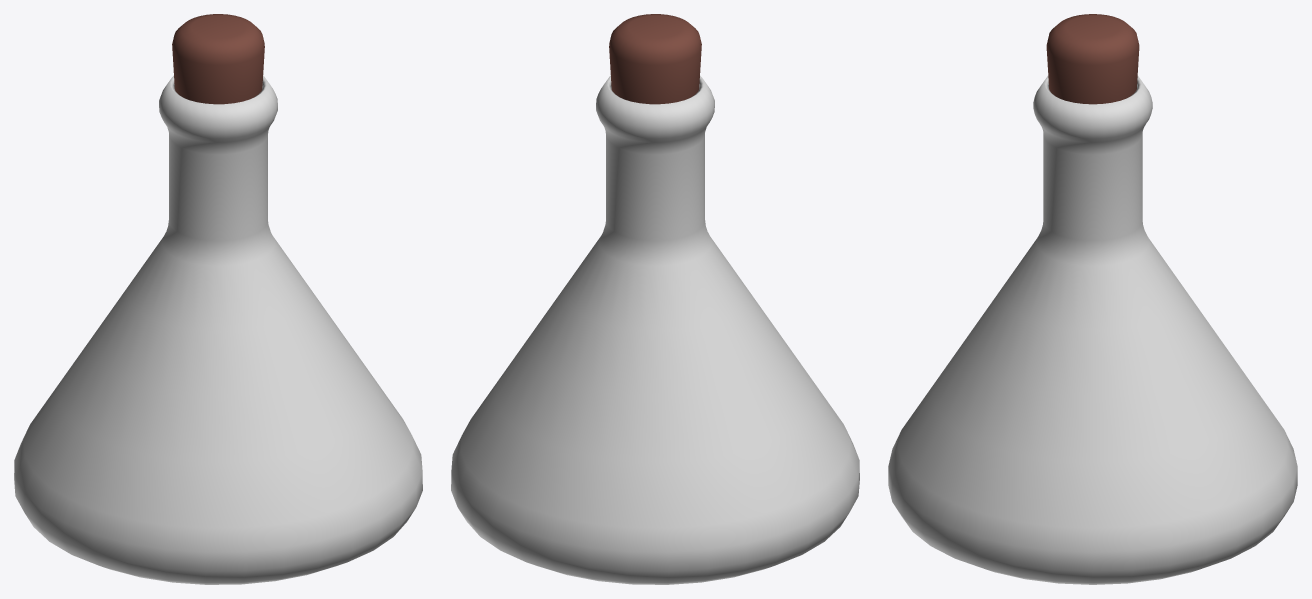
File: JumpPotion.fbx
3 renders of one model, left to right at view 1: azimuth 30°, elevation 25°; view 2: azimuth 150°, elevation 25°; view 3: azimuth 270°, elevation 25°, orthographic.
Parts seen in each view (by area): view 1: Potion; view 2: Potion; view 3: Potion.
Part boxes in pixels (x1,y1,x2,y2): Potion: (14, 14, 422, 584); Potion: (451, 14, 859, 584); Potion: (888, 14, 1297, 584).
Size of the model in its own units: 175 by 230 by 175.
